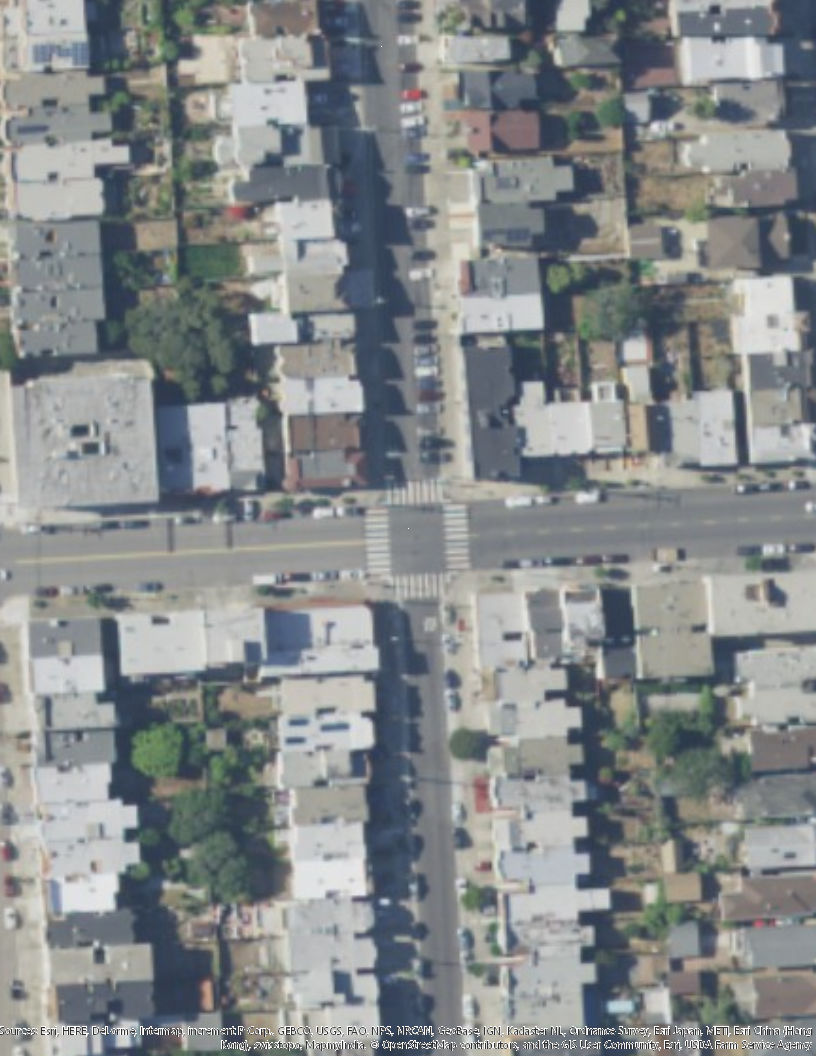zebracross: (363, 507, 393, 571), (386, 475, 445, 503), (445, 502, 470, 565), (393, 570, 445, 598)
